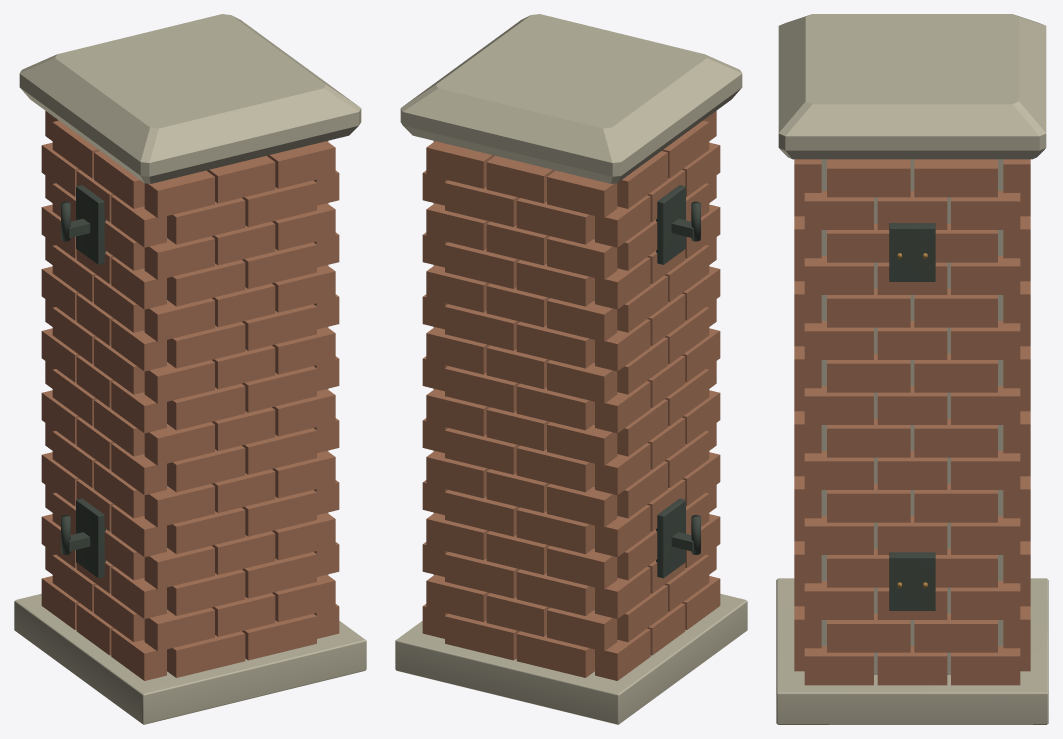
Rendered from rpg-mansion-garden-brick-gate-pier-01.glb.
3 renders of one model, left to right at view 1: azimuth 30°, elevation 25°; view 2: azimuth 150°, elevation 25°; view 3: azimuth 270°, elevation 25°, orthographic. The views are drawn at different scales.
Visible parts, largest first — view 1: rpg-mansion-garden-brick-gate-pier-01; view 2: rpg-mansion-garden-brick-gate-pier-01; view 3: rpg-mansion-garden-brick-gate-pier-01.
Part boxes in pixels (box(x1,y1,x2,y2)): rpg-mansion-garden-brick-gate-pier-01: box(14, 14, 366, 724); rpg-mansion-garden-brick-gate-pier-01: box(395, 14, 747, 724); rpg-mansion-garden-brick-gate-pier-01: box(776, 14, 1048, 724).
Bounding box in the file's own units: 0.665 × 1.48 × 0.6.
